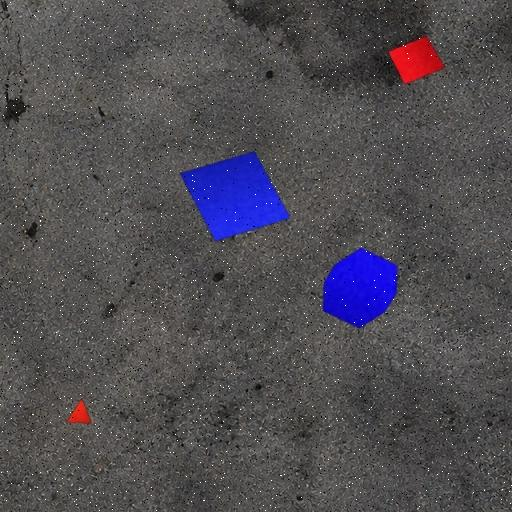BLUE_SQUARE: (178, 150, 292, 242)
RED_SQUARE: (387, 35, 446, 85)
